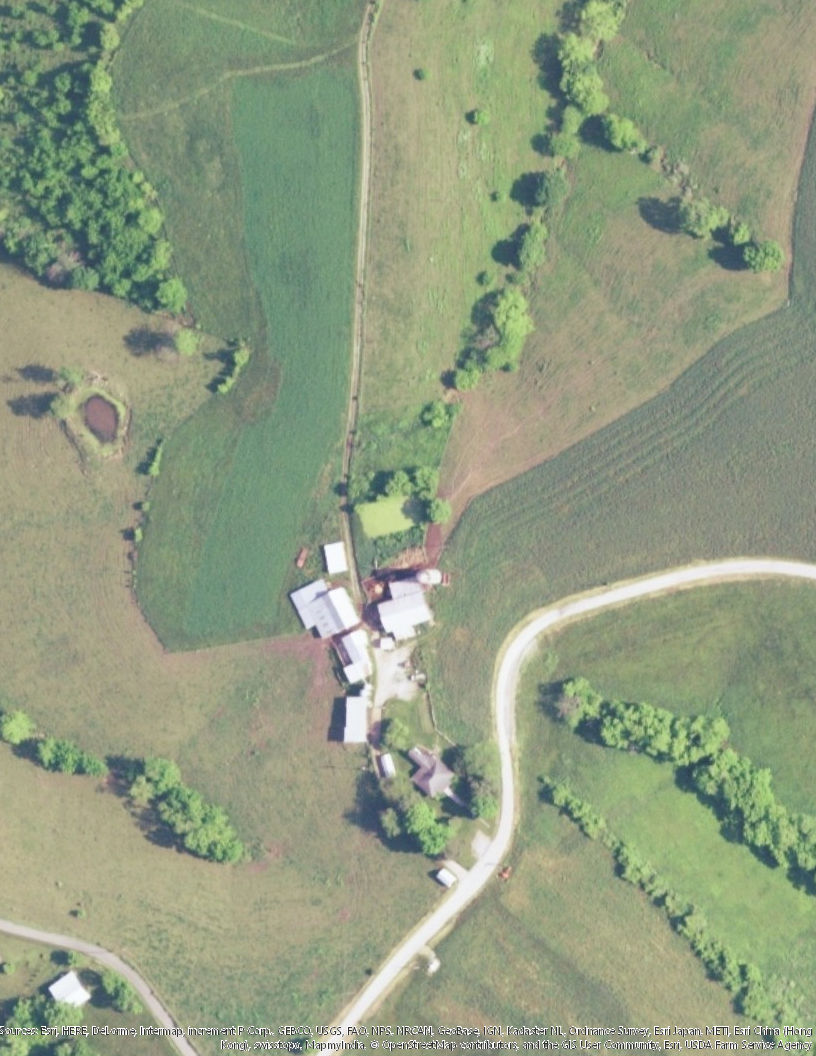cafo: (288, 540, 446, 752)
